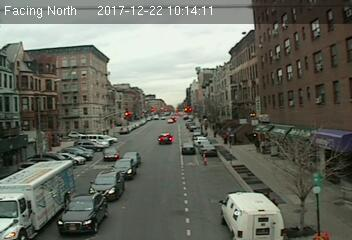car: (58, 191, 107, 233), (89, 168, 124, 200), (112, 158, 137, 178), (101, 145, 120, 160), (158, 131, 172, 146), (181, 142, 196, 156), (200, 145, 218, 156)
truck: (219, 189, 289, 240)
